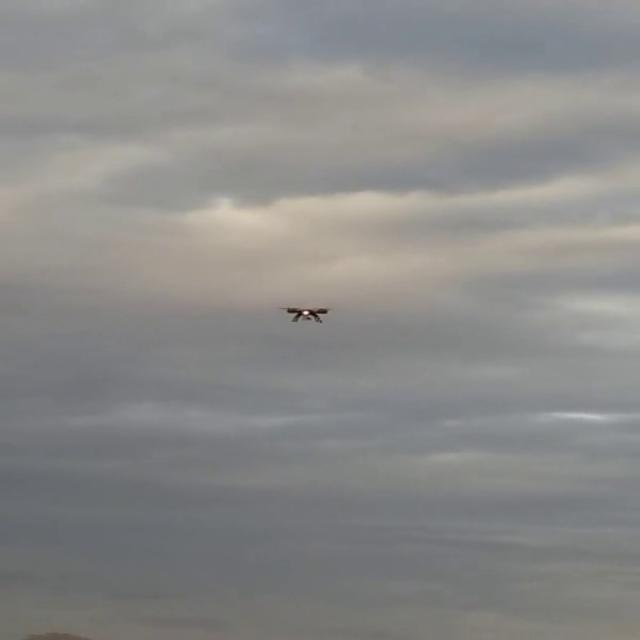drone: (277, 301, 331, 328)
